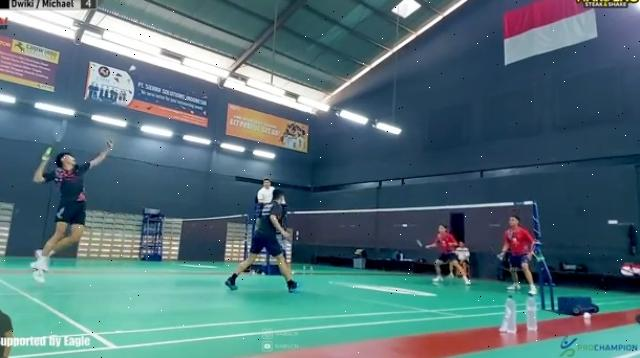Shuttlecock: (126, 61, 142, 73)
